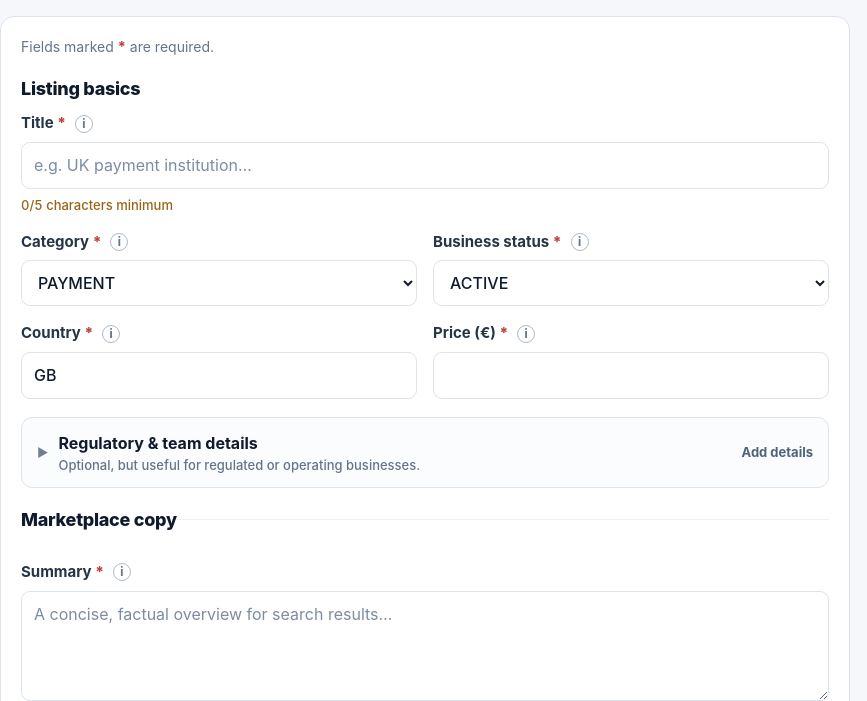
Test: ModerationForm › keeps optional Asset details compact until the Seller opens them
Click the text "Regulatory & team details" at point(158, 443), box left=58, top=433, right=258, bottom=453
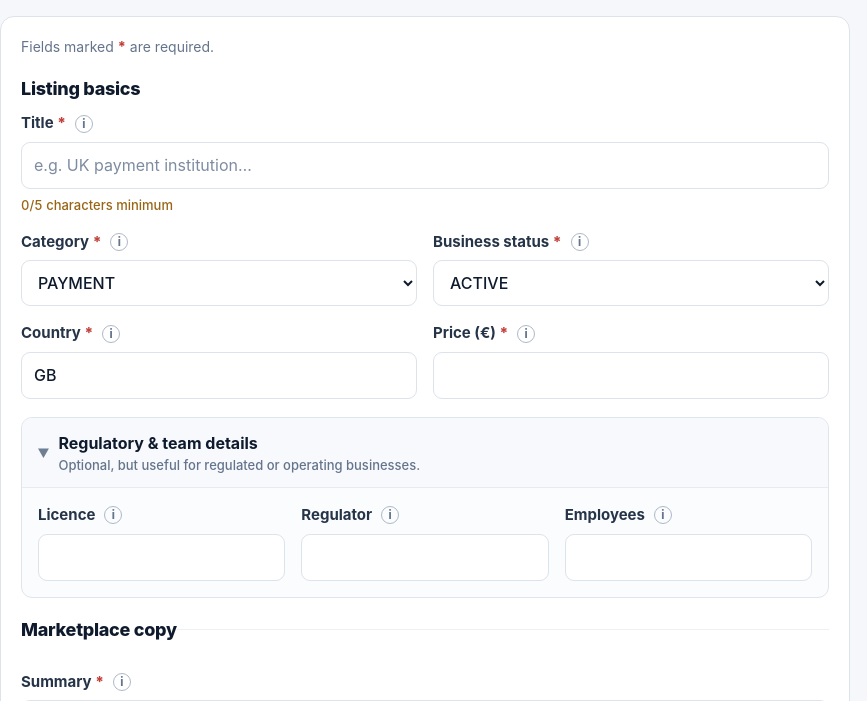
Now the field labelled "Licence" is shown, box left=38, top=534, right=285, bottom=581
